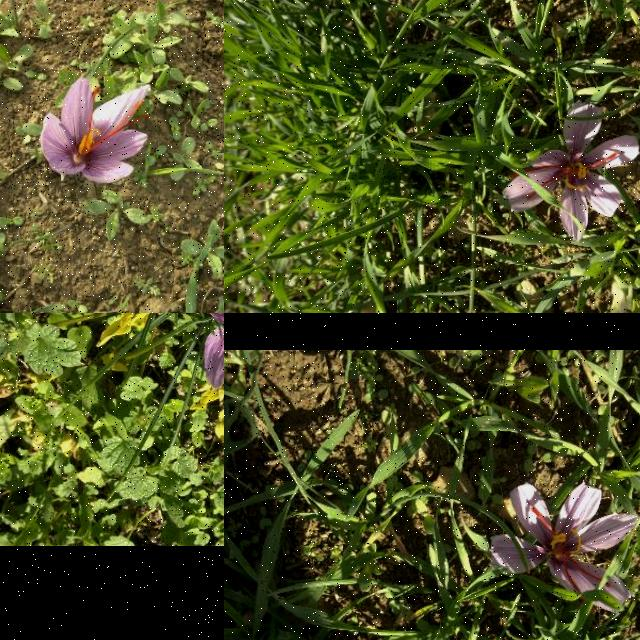flower: (489, 483, 638, 611), (503, 103, 640, 242), (40, 76, 150, 184)
